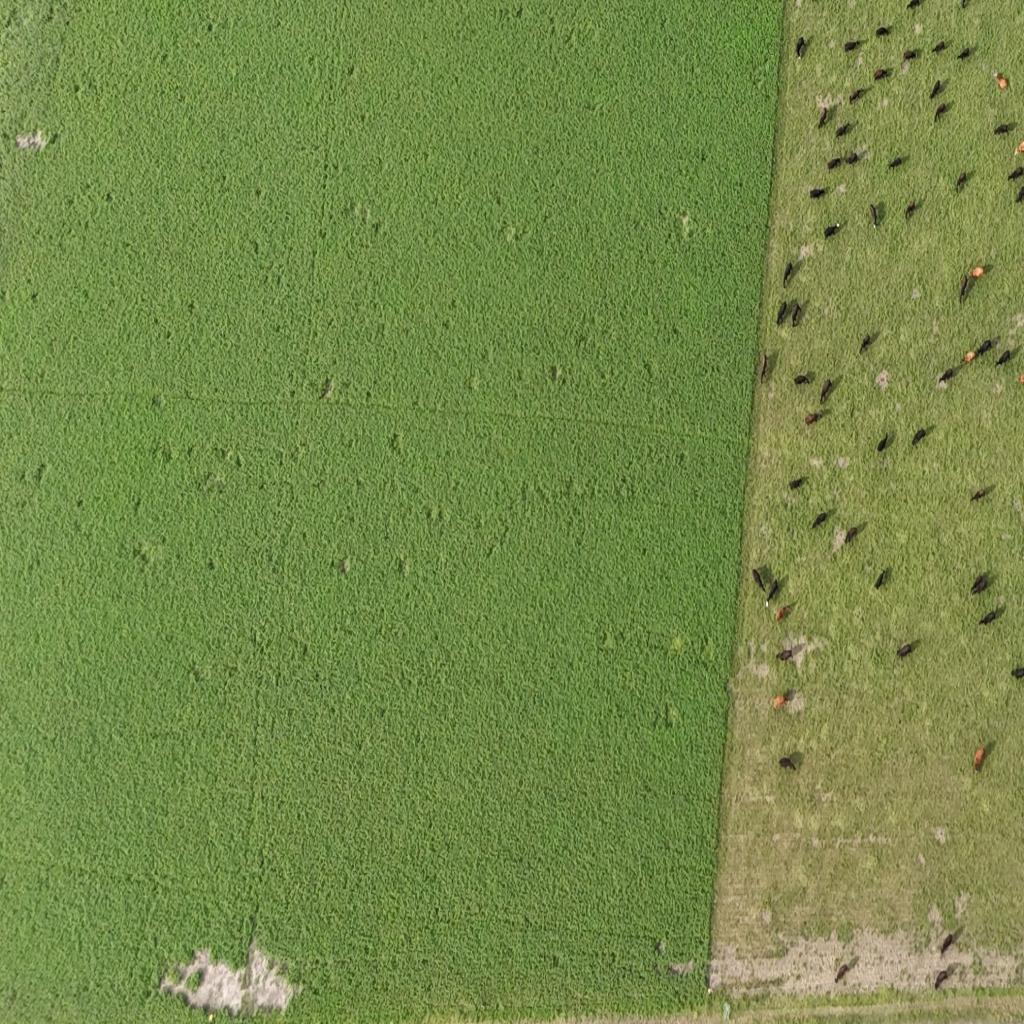cow: (973, 742, 994, 776), (940, 927, 960, 957), (811, 509, 832, 530), (772, 690, 794, 710), (978, 608, 999, 628), (779, 754, 800, 774), (970, 574, 989, 596), (820, 378, 836, 404), (844, 36, 867, 54), (975, 338, 995, 358), (752, 568, 767, 594), (896, 641, 916, 660), (777, 645, 798, 663), (835, 960, 851, 983), (996, 348, 1014, 368), (911, 428, 929, 448), (805, 410, 826, 427), (1007, 165, 1024, 185), (776, 300, 788, 327), (938, 367, 955, 386), (996, 124, 1016, 140), (934, 970, 949, 991), (934, 102, 949, 123), (790, 301, 802, 327), (869, 202, 881, 228), (766, 579, 779, 603), (877, 431, 891, 453), (970, 487, 989, 503), (775, 604, 791, 623), (844, 525, 859, 545), (995, 72, 1010, 92), (959, 274, 969, 304), (759, 351, 768, 383), (789, 476, 807, 492), (849, 88, 867, 103), (783, 261, 793, 288), (796, 36, 807, 60), (905, 200, 918, 220), (824, 223, 840, 239), (835, 122, 851, 138), (888, 154, 904, 170), (956, 171, 968, 192), (930, 79, 942, 99), (828, 156, 844, 171), (860, 333, 872, 353), (873, 68, 890, 82), (810, 186, 826, 200), (845, 150, 859, 166), (902, 48, 916, 64), (931, 40, 947, 54), (794, 373, 811, 386), (875, 571, 887, 589), (818, 108, 828, 129), (970, 266, 984, 281), (957, 46, 971, 61), (876, 26, 890, 39), (1016, 186, 1024, 208), (907, 1, 922, 11), (1016, 666, 1024, 681), (960, 0, 970, 10)
